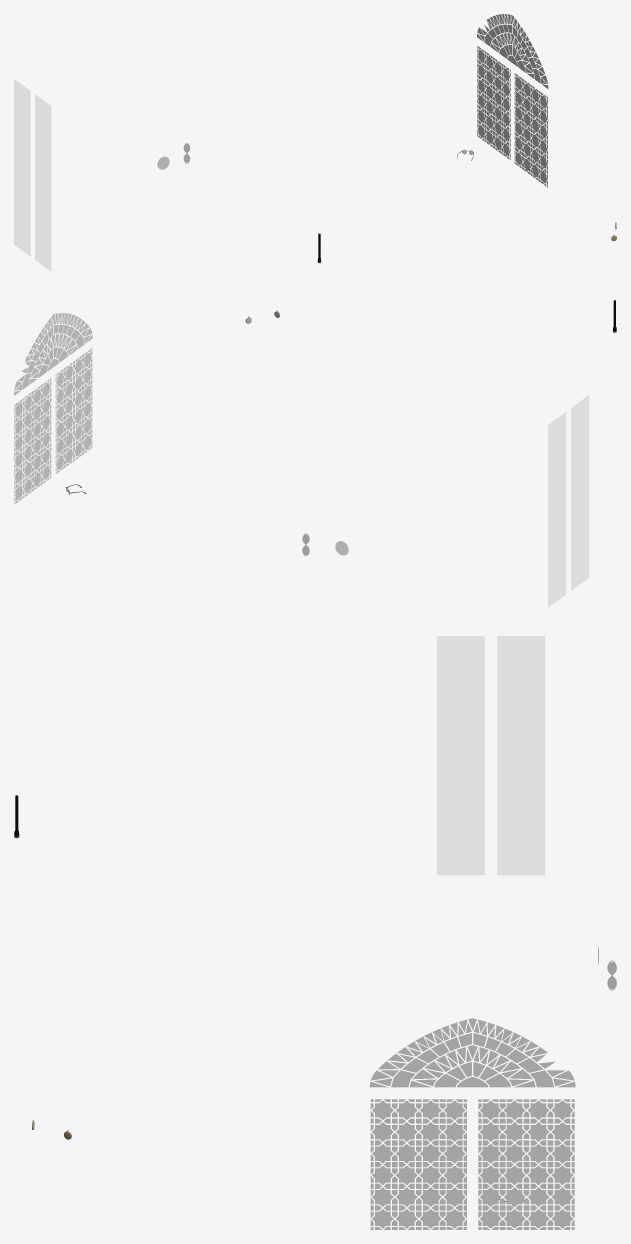
Rendered from cutouts.glb.
3 renders of one model, top to bottom at view 1: azimuth 30°, elevation 25°; view 2: azimuth 150°, elevation 25°; view 3: azimuth 270°, elevation 25°, orthographic. The views are drawn at different scales.
Parts seen in each view (by area): view 1: glass_ruby, glass_emerald, glass_cobalt, glass_amber, glass_clear; view 2: glass_ruby, glass_emerald, glass_cobalt, glass_amber, glass_clear; view 3: glass_ruby, glass_cobalt, glass_emerald, glass_amber, glass_clear.
Part boxes in pixels (bbox=[...]): glass_ruby: bbox=[477, 14, 548, 183]; glass_emerald: bbox=[477, 33, 547, 186]; glass_cobalt: bbox=[477, 17, 547, 177]; glass_amber: bbox=[477, 24, 547, 187]; glass_clear: bbox=[477, 24, 547, 181]; glass_ruby: bbox=[14, 313, 92, 500]; glass_emerald: bbox=[14, 334, 92, 503]; glass_cobalt: bbox=[15, 315, 91, 493]; glass_amber: bbox=[14, 324, 92, 504]; glass_clear: bbox=[14, 324, 92, 498]; glass_ruby: bbox=[369, 1018, 575, 1228]; glass_cobalt: bbox=[372, 1022, 573, 1228]; glass_emerald: bbox=[370, 1045, 574, 1229]; glass_amber: bbox=[370, 1037, 574, 1229]; glass_clear: bbox=[370, 1033, 574, 1229].
Size of the model in its own units: 5.23 by 1.91 by 4.
Materials: 15 (6 with a texture image).
